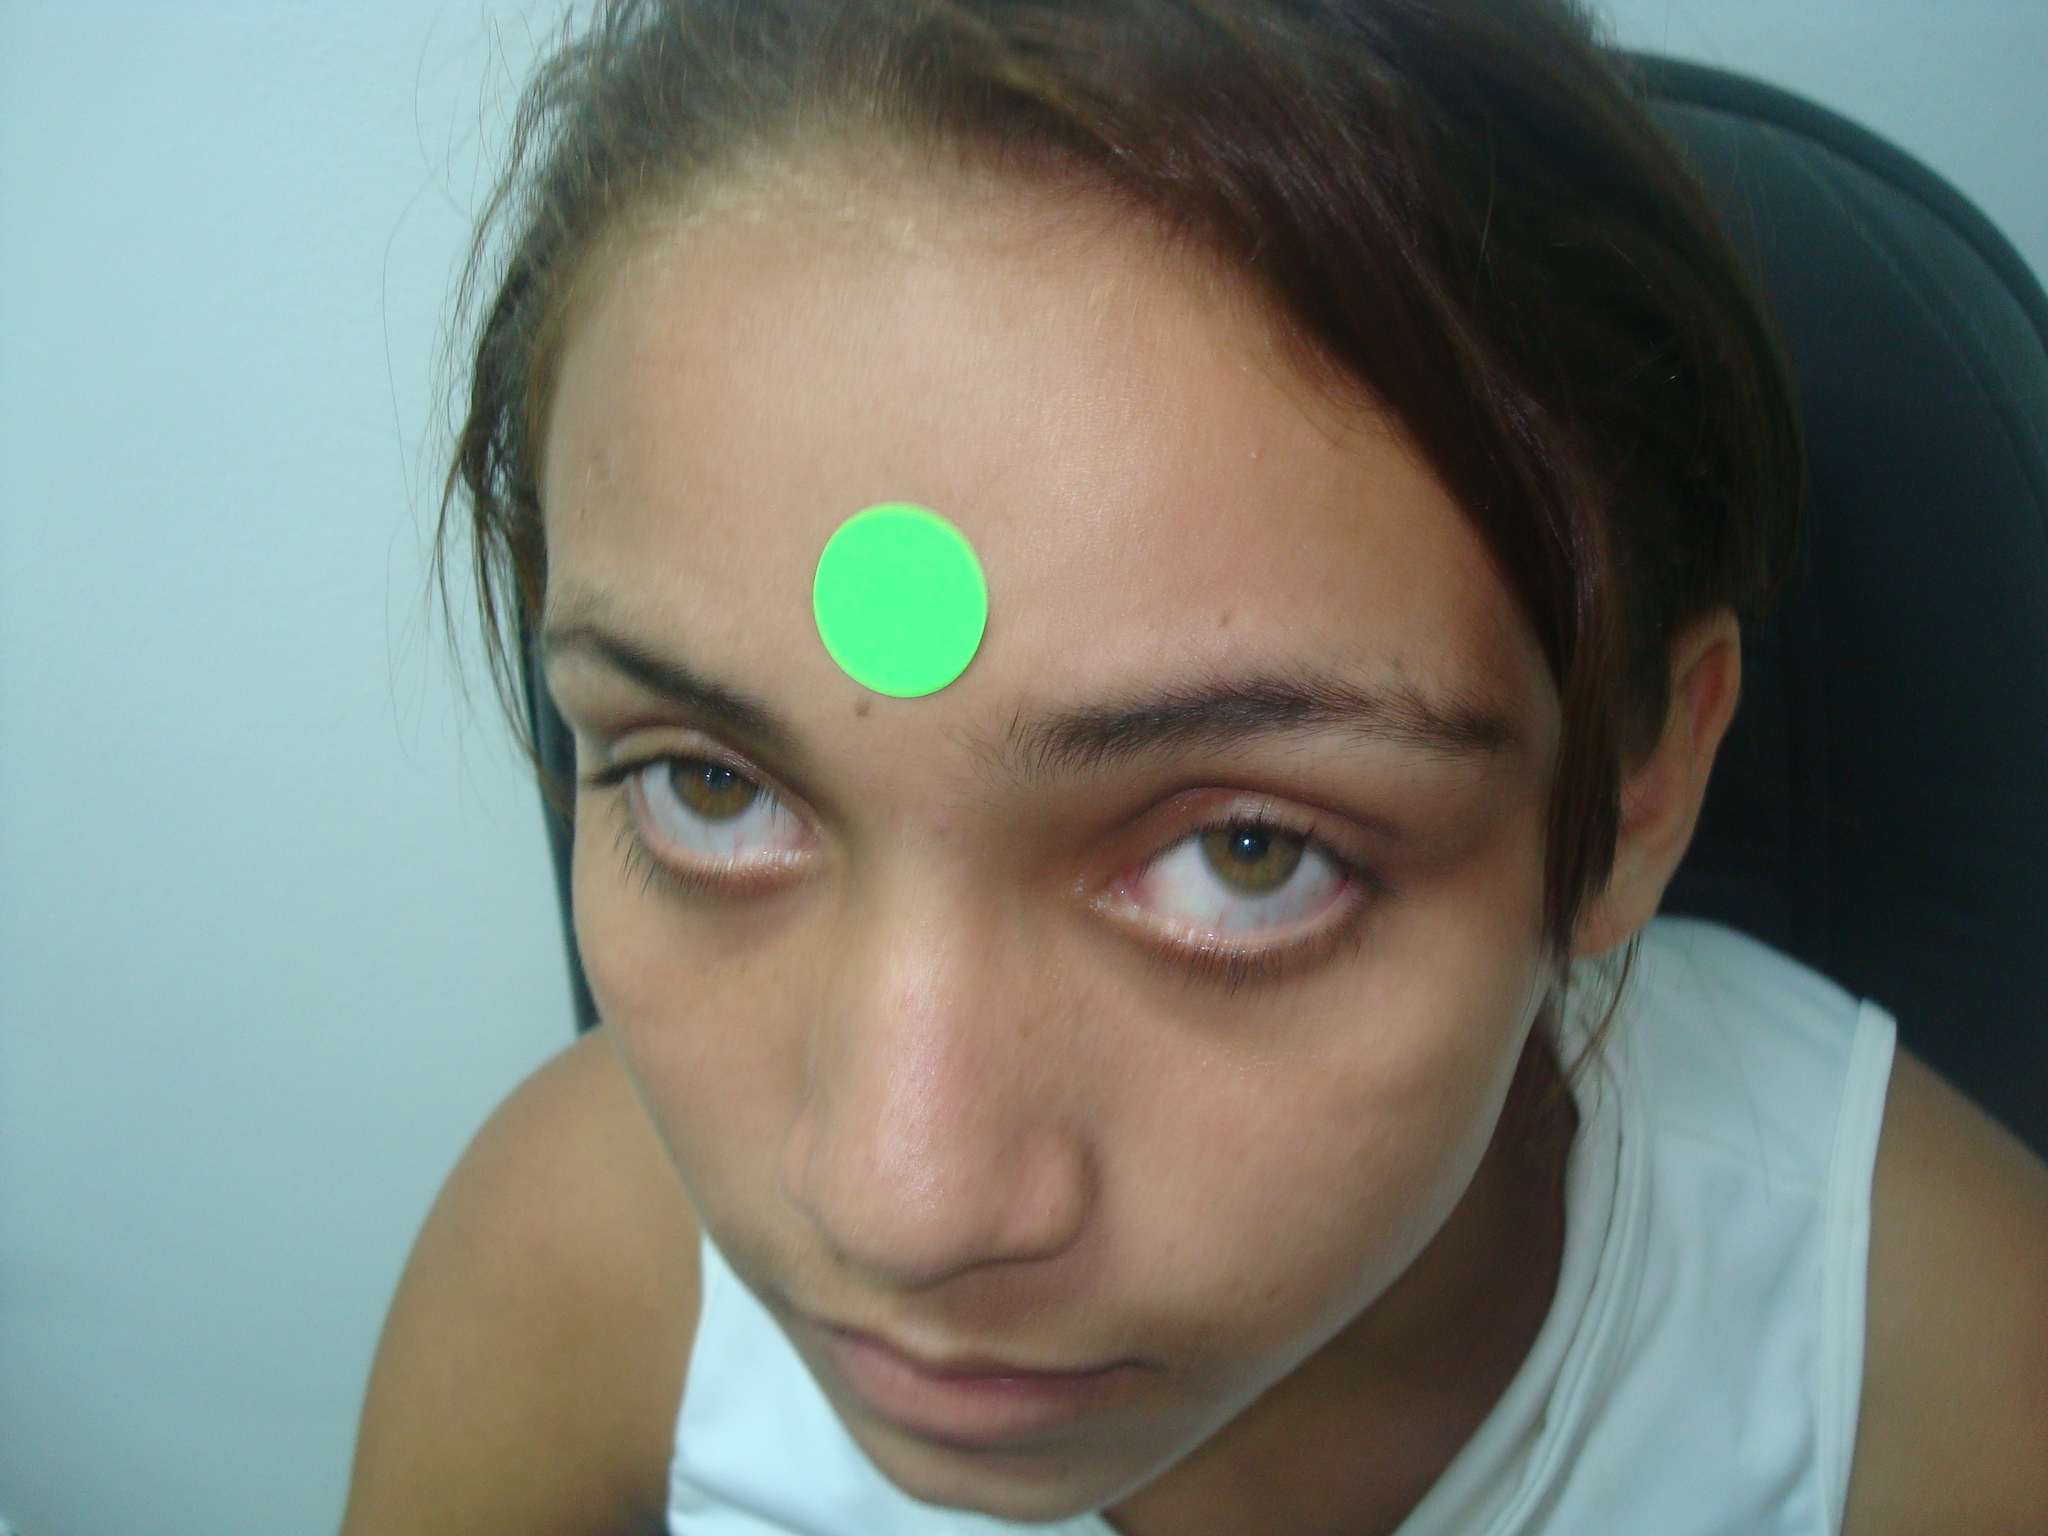flash: (721, 768, 735, 783), (1240, 834, 1253, 849)
limbo: (1192, 792, 1301, 894), (674, 734, 768, 815)
